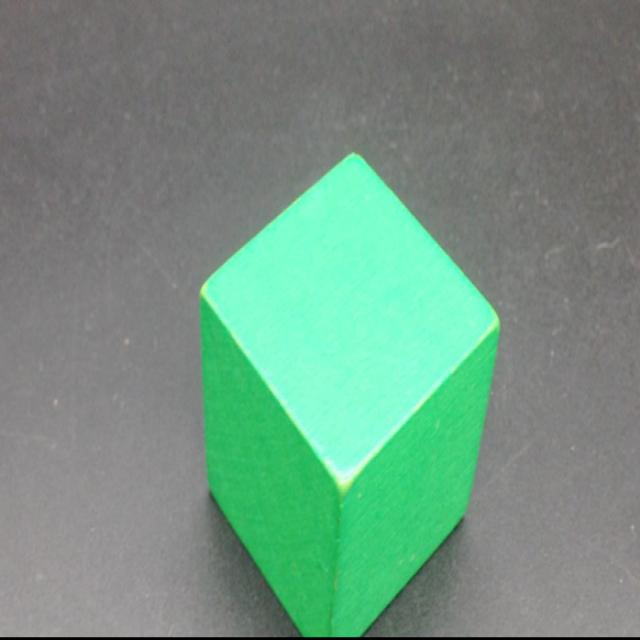green cube: (198, 155, 501, 634)
